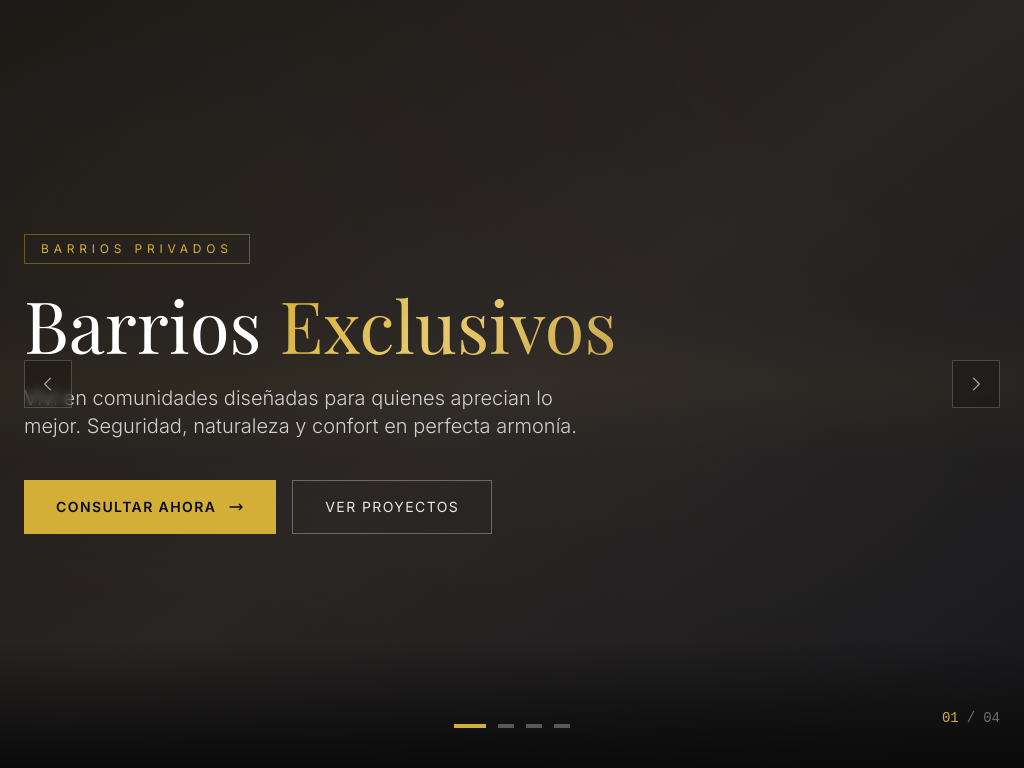
Scenario: HeroCarousel › wrap hacia atrás: desde slide 1 va al último
Click the button named "Anterior".
click(48, 384)  # box x1=24 y1=360 x2=72 y2=408
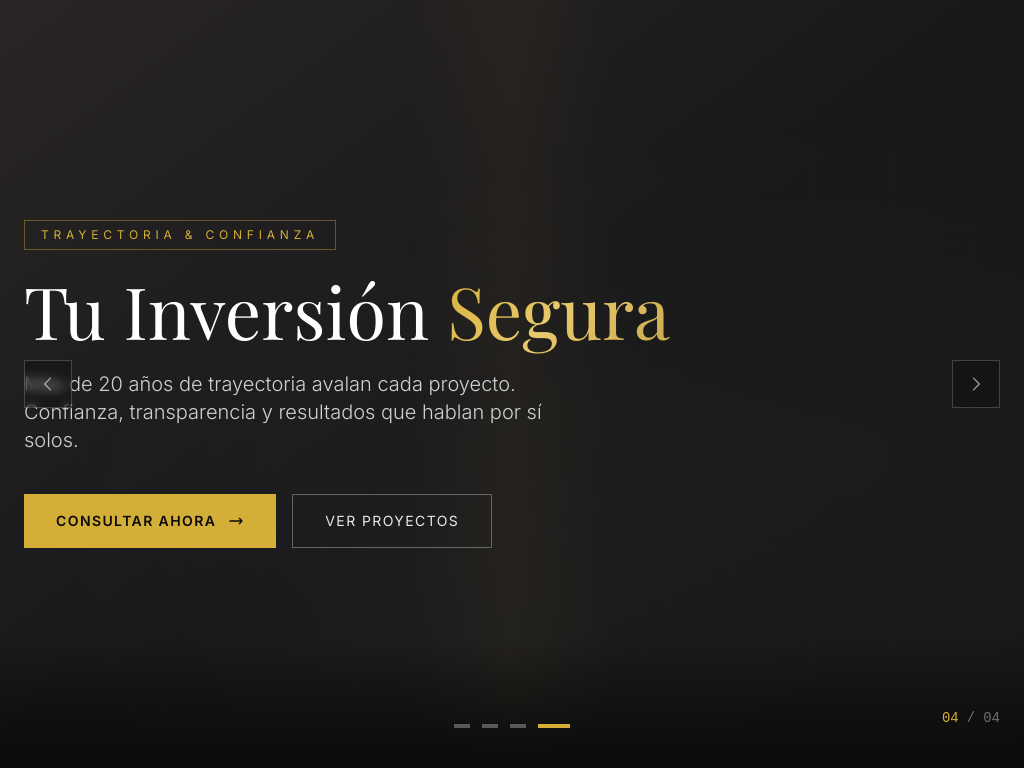
Expected: the heading reads "Tu Inversión Segura", x1=24 y1=274 x2=696 y2=346
